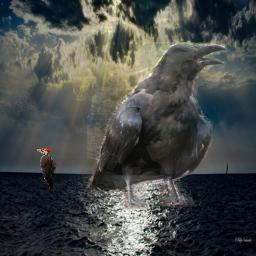Crow: (87, 42, 227, 209)
Woodpecker: (34, 148, 57, 191)
